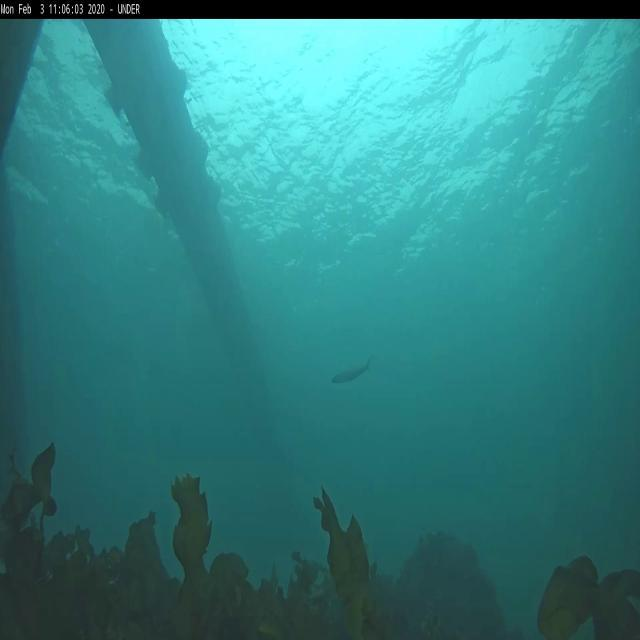fish: (330, 364, 372, 384)
